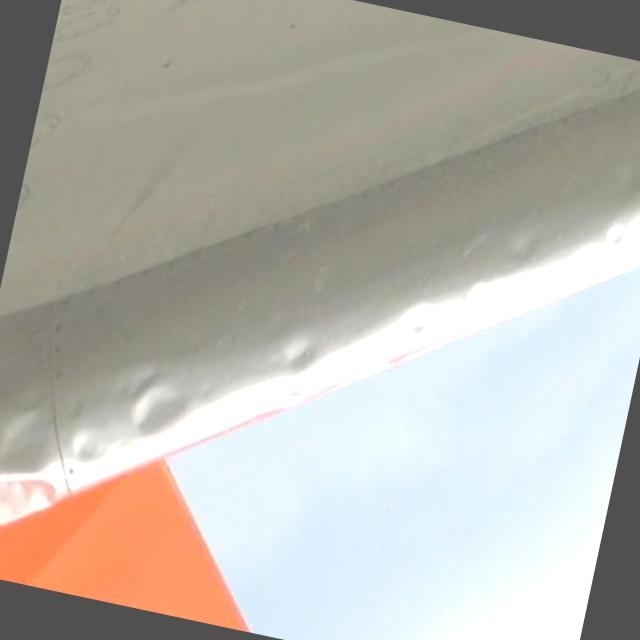dent: (0, 398, 69, 537), (120, 364, 194, 441), (276, 331, 322, 378), (606, 193, 640, 255), (402, 304, 434, 346), (503, 229, 535, 268), (72, 431, 103, 462)
